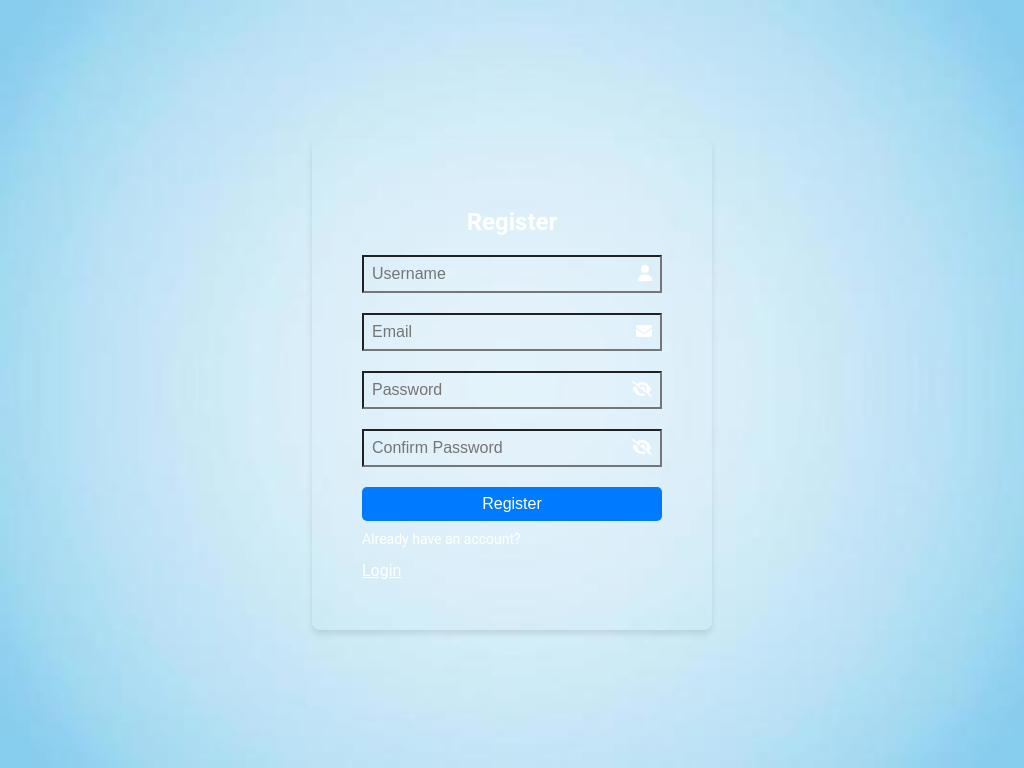
Test: Register Component › should display error messages for invalid password format
Type "weak" into the password field with placeholder "Password".
click(512, 390); type("weak")  # box [362,371,662,409]
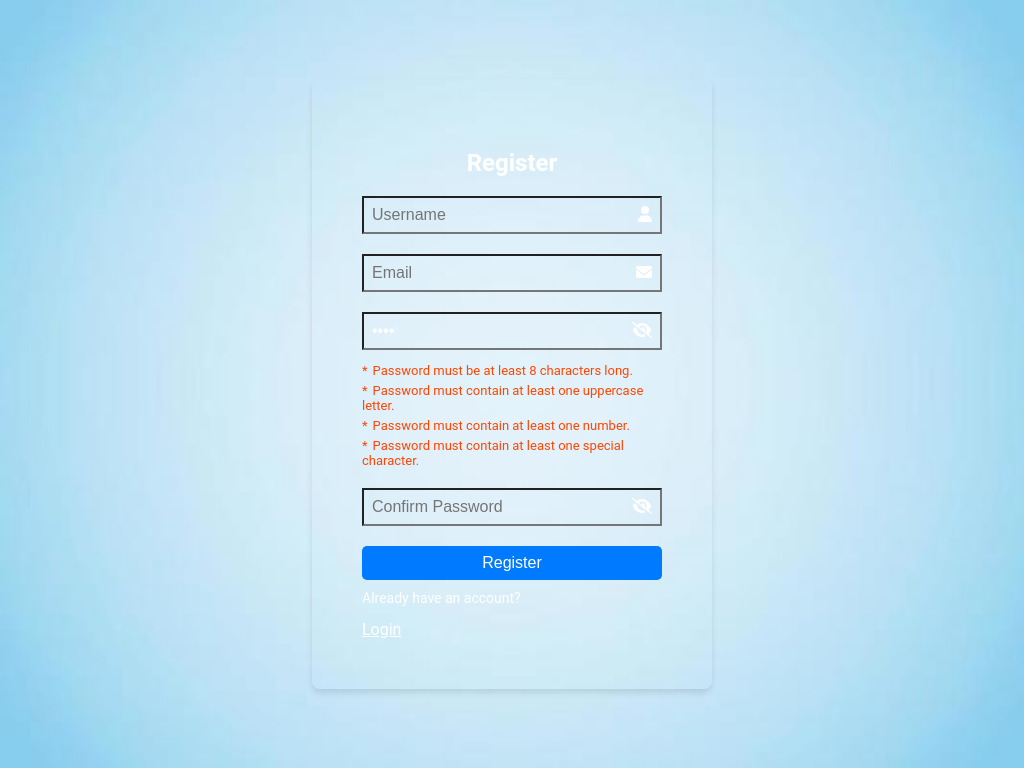
Expected: the list item "Password must be at least 8 characters long." is shown, [362,363,662,378]
Expected: the list item "Password must contain at least one uppercase letter." is shown, [362,383,662,413]
Expected: the list item "Password must contain at least one number." is shown, [362,418,662,433]
